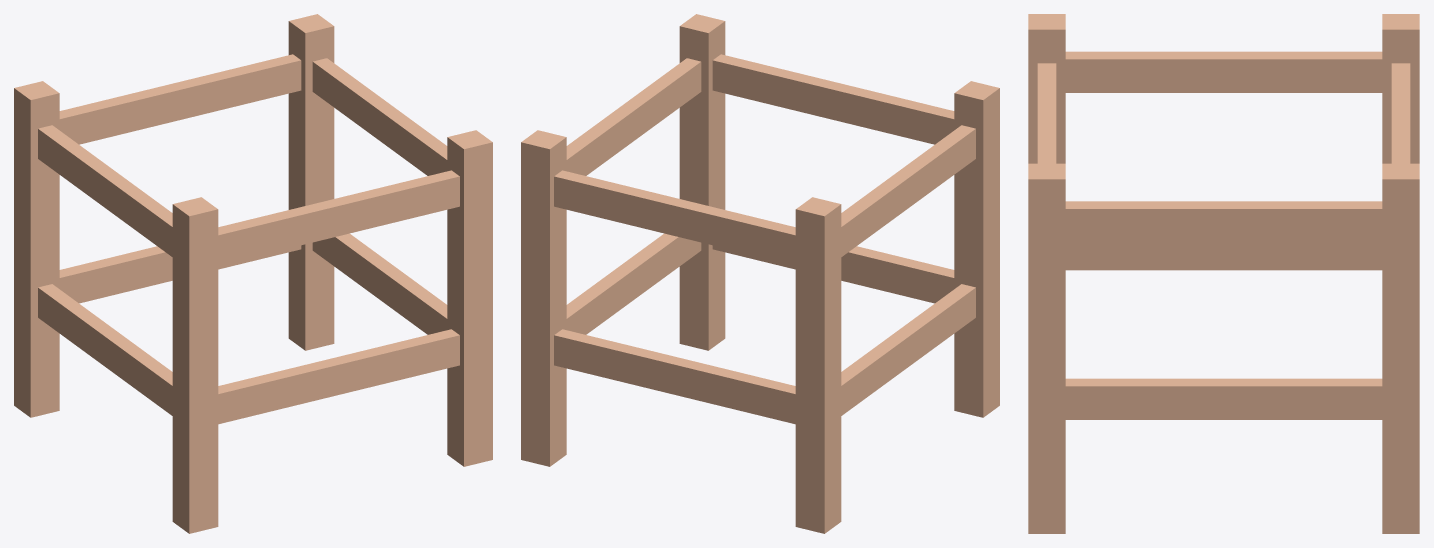
Rendered from woodStructure_high.glb.
3 renders of one model, left to right at view 1: azimuth 30°, elevation 25°; view 2: azimuth 150°, elevation 25°; view 3: azimuth 270°, elevation 25°, orthographic. The views are drawn at different scales.
Parts seen in each view (by area): view 1: woodStructure_high; view 2: woodStructure_high; view 3: woodStructure_high.
Boxes of the visible parts, bbox=[...] form: woodStructure_high: bbox=[14, 14, 492, 533]; woodStructure_high: bbox=[521, 14, 999, 533]; woodStructure_high: bbox=[1028, 14, 1419, 533].
Size of the model in its own units: 1 by 1 by 1.
